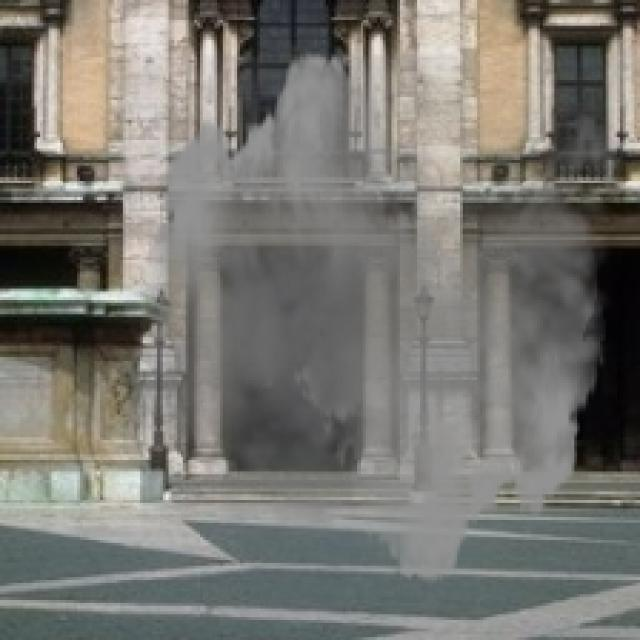smoke: (117, 34, 637, 603)
